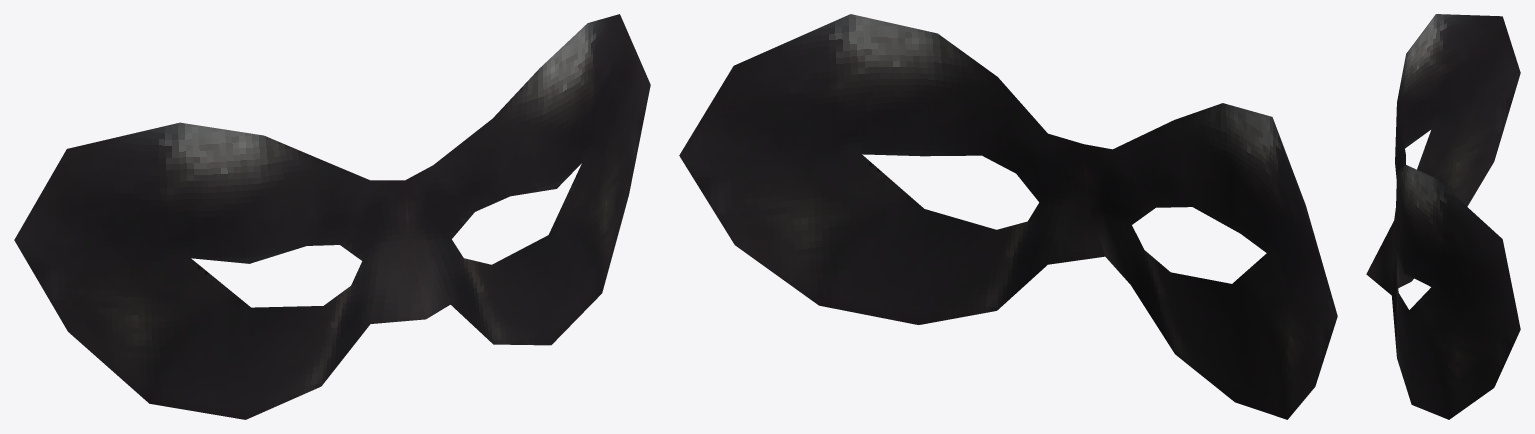
File: tt_m_chr_avt_acc_msk_masqueradeTypeMask.glb
3 renders of one model, left to right at view 1: azimuth 30°, elevation 25°; view 2: azimuth 150°, elevation 25°; view 3: azimuth 270°, elevation 25°, orthographic. The views are drawn at different scales.
Visible parts, largest first — view 1: tt_m_chr_avt_acc_msk_masqueradeTypeMasks; view 2: tt_m_chr_avt_acc_msk_masqueradeTypeMasks; view 3: tt_m_chr_avt_acc_msk_masqueradeTypeMasks.
Part boxes in pixels (x1,y1,x2,y2): tt_m_chr_avt_acc_msk_masqueradeTypeMasks: (14, 14, 650, 419); tt_m_chr_avt_acc_msk_masqueradeTypeMasks: (679, 14, 1337, 419); tt_m_chr_avt_acc_msk_masqueradeTypeMasks: (1366, 14, 1520, 419).
Size of the model in its own units: 5.13 by 2.3 by 1.31.
1 material, 1 textured.
